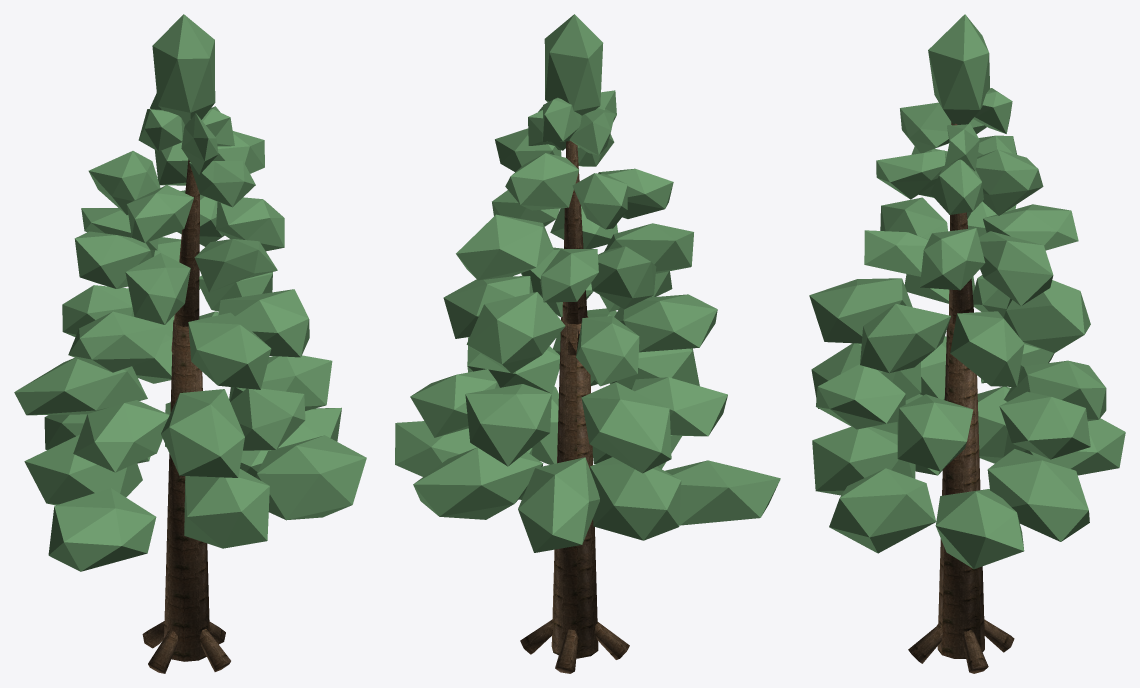
File: Kenya_Highland_Pine.glb
The picture shows the model from 3 angles, left to right: view 1: azimuth 30°, elevation 25°; view 2: azimuth 150°, elevation 25°; view 3: azimuth 270°, elevation 25°; orthographic projection.
Parts seen in each view (by area): view 1: PineCanopyBoughs, TrunkLower, TrunkUpper, Root_2, Root_3; view 2: PineCanopyBoughs, TrunkLower, TrunkUpper, Root_1, Root_2, Root_0; view 3: PineCanopyBoughs, TrunkLower, TrunkUpper, Root_0, Root_3, Root_1.
Part boxes in pixels (box(x1,y1,x2,y2)): PineCanopyBoughs: box(14, 14, 366, 571); TrunkLower: box(164, 319, 209, 661); TrunkUpper: box(171, 159, 199, 355); Root_2: box(148, 630, 177, 673); Root_3: box(199, 629, 230, 671); PineCanopyBoughs: box(395, 14, 780, 552); TrunkLower: box(551, 316, 598, 658); TrunkUpper: box(562, 140, 587, 355); Root_1: box(555, 629, 578, 673); Root_2: box(594, 622, 629, 659); Root_0: box(520, 619, 552, 654); PineCanopyBoughs: box(809, 14, 1125, 569); TrunkLower: box(937, 321, 984, 658); TrunkUpper: box(949, 122, 973, 324); Root_0: box(962, 630, 988, 673); Root_3: box(908, 624, 942, 663); Root_1: box(984, 619, 1014, 652).
Bounding box in the file's own units: 6.74 × 12.5 × 5.58.
2 materials, 1 textured.
